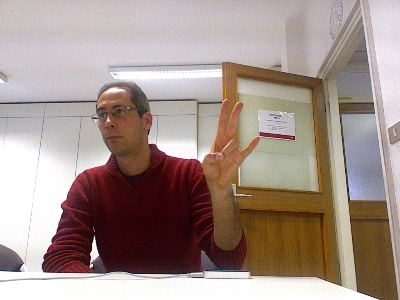观音: (198, 96, 261, 189)
